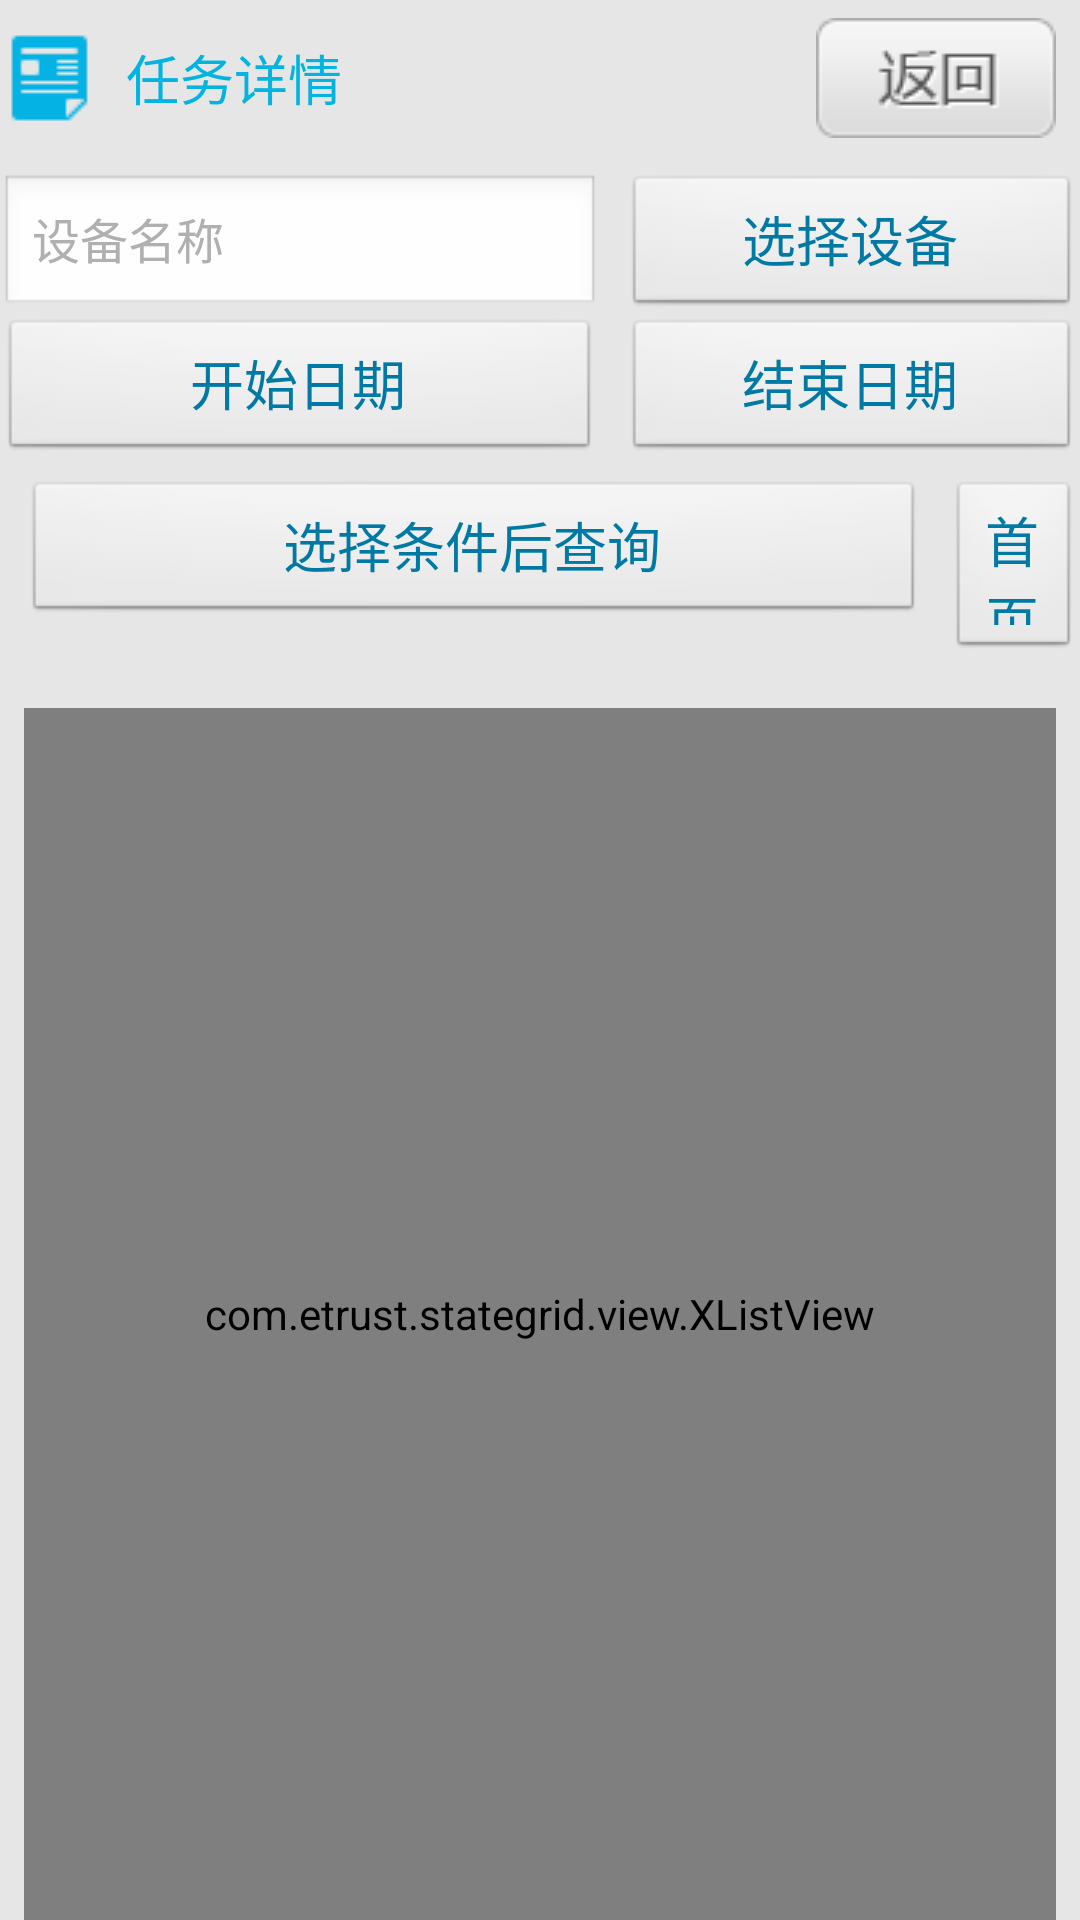

Icon click points for this 1080x1920 phone screenshot, format point (x, y):
task detail: point (49, 78)
